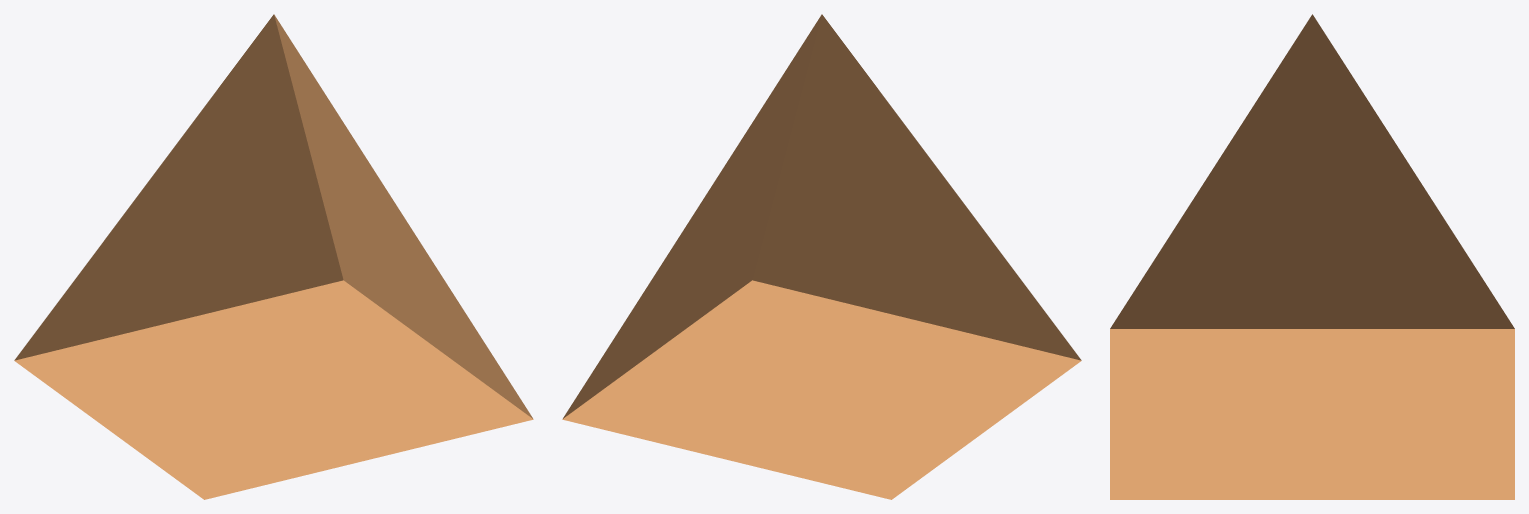
File: test_static.glb
3 renders of one model, left to right at view 1: azimuth 30°, elevation 25°; view 2: azimuth 150°, elevation 25°; view 3: azimuth 270°, elevation 25°, orthographic. The views are drawn at different scales.
Bounding box in the file's own units: 1.1 × 1.2 × 1.1.
